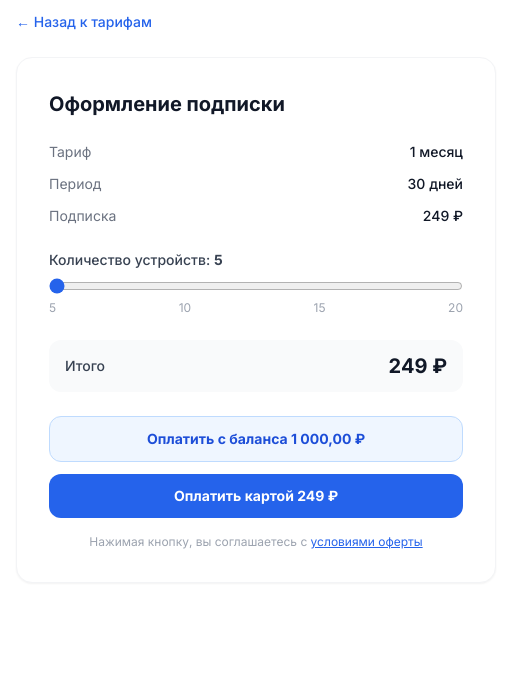
Scenario: Checkout (payment/[planId]) › pays with balance and refreshes on success
What coordinates should you click on to do the following:
click the button "Оплатить с баланса 1 000,00 ₽"
I would click on:
 (256, 439)
Its box is left=49, top=416, right=463, bottom=462.
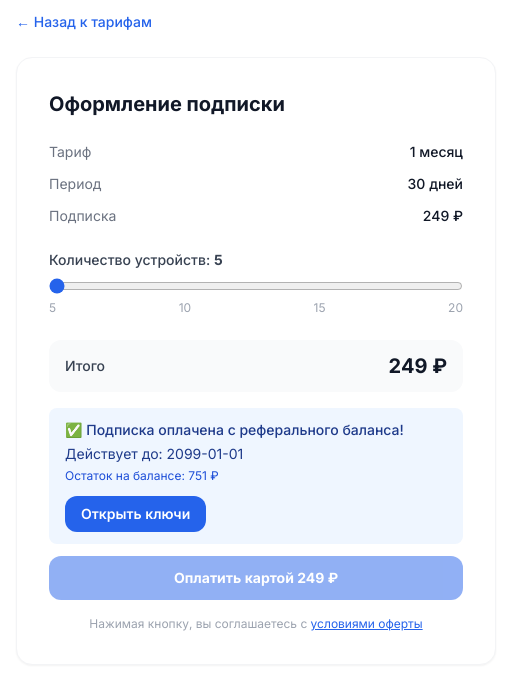
Expected: the text "✅ Подписка оплачена с реферального баланса!" is shown, left=65, top=420, right=447, bottom=440
